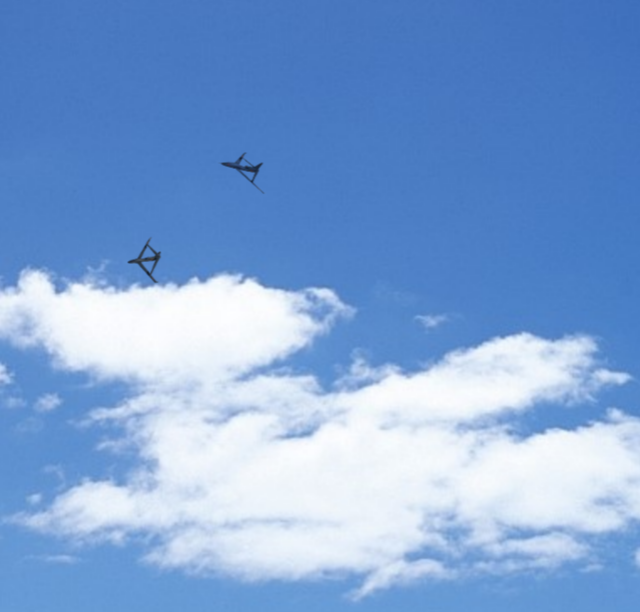military drone: (216, 151, 264, 194), (126, 236, 160, 283)
